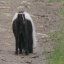skunk: (13, 11, 36, 54)
